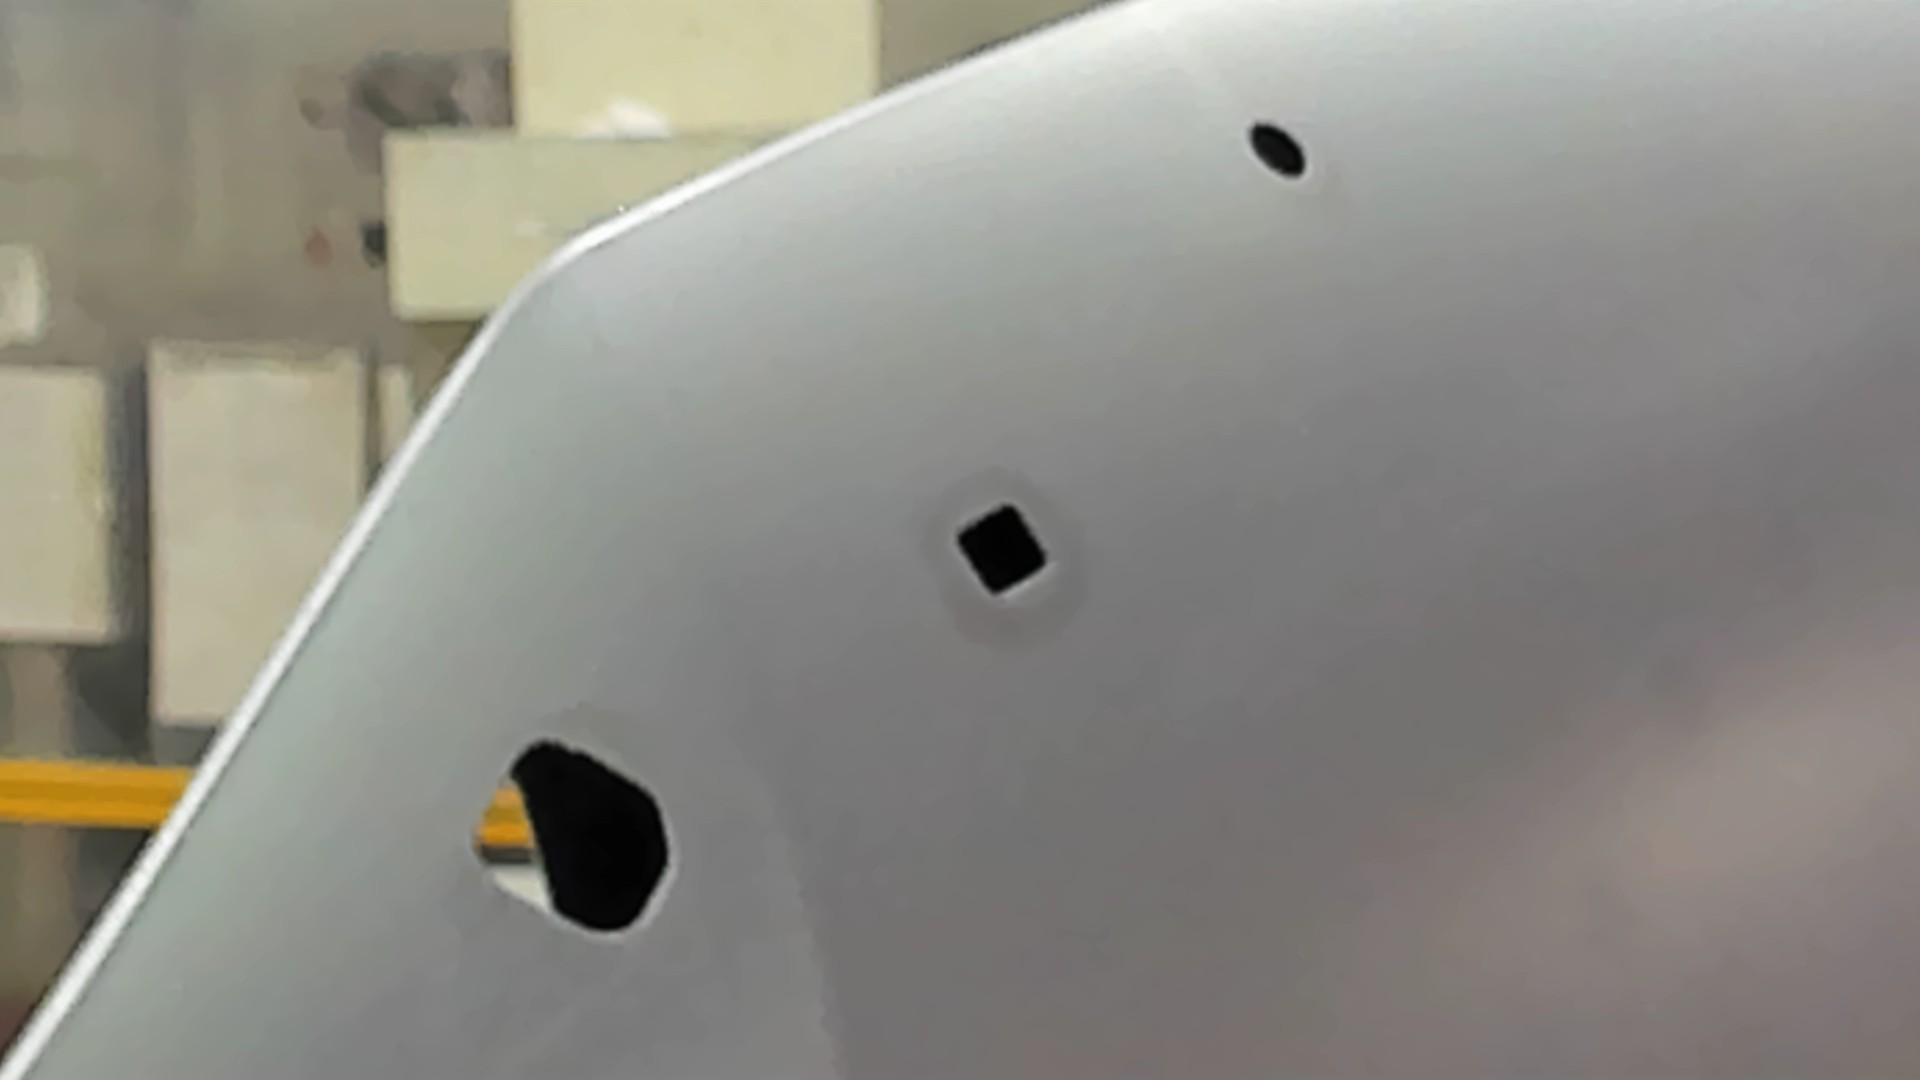chico: (1244, 119, 1309, 185)
grande: (469, 735, 682, 940)
mediano: (952, 500, 1051, 603)
